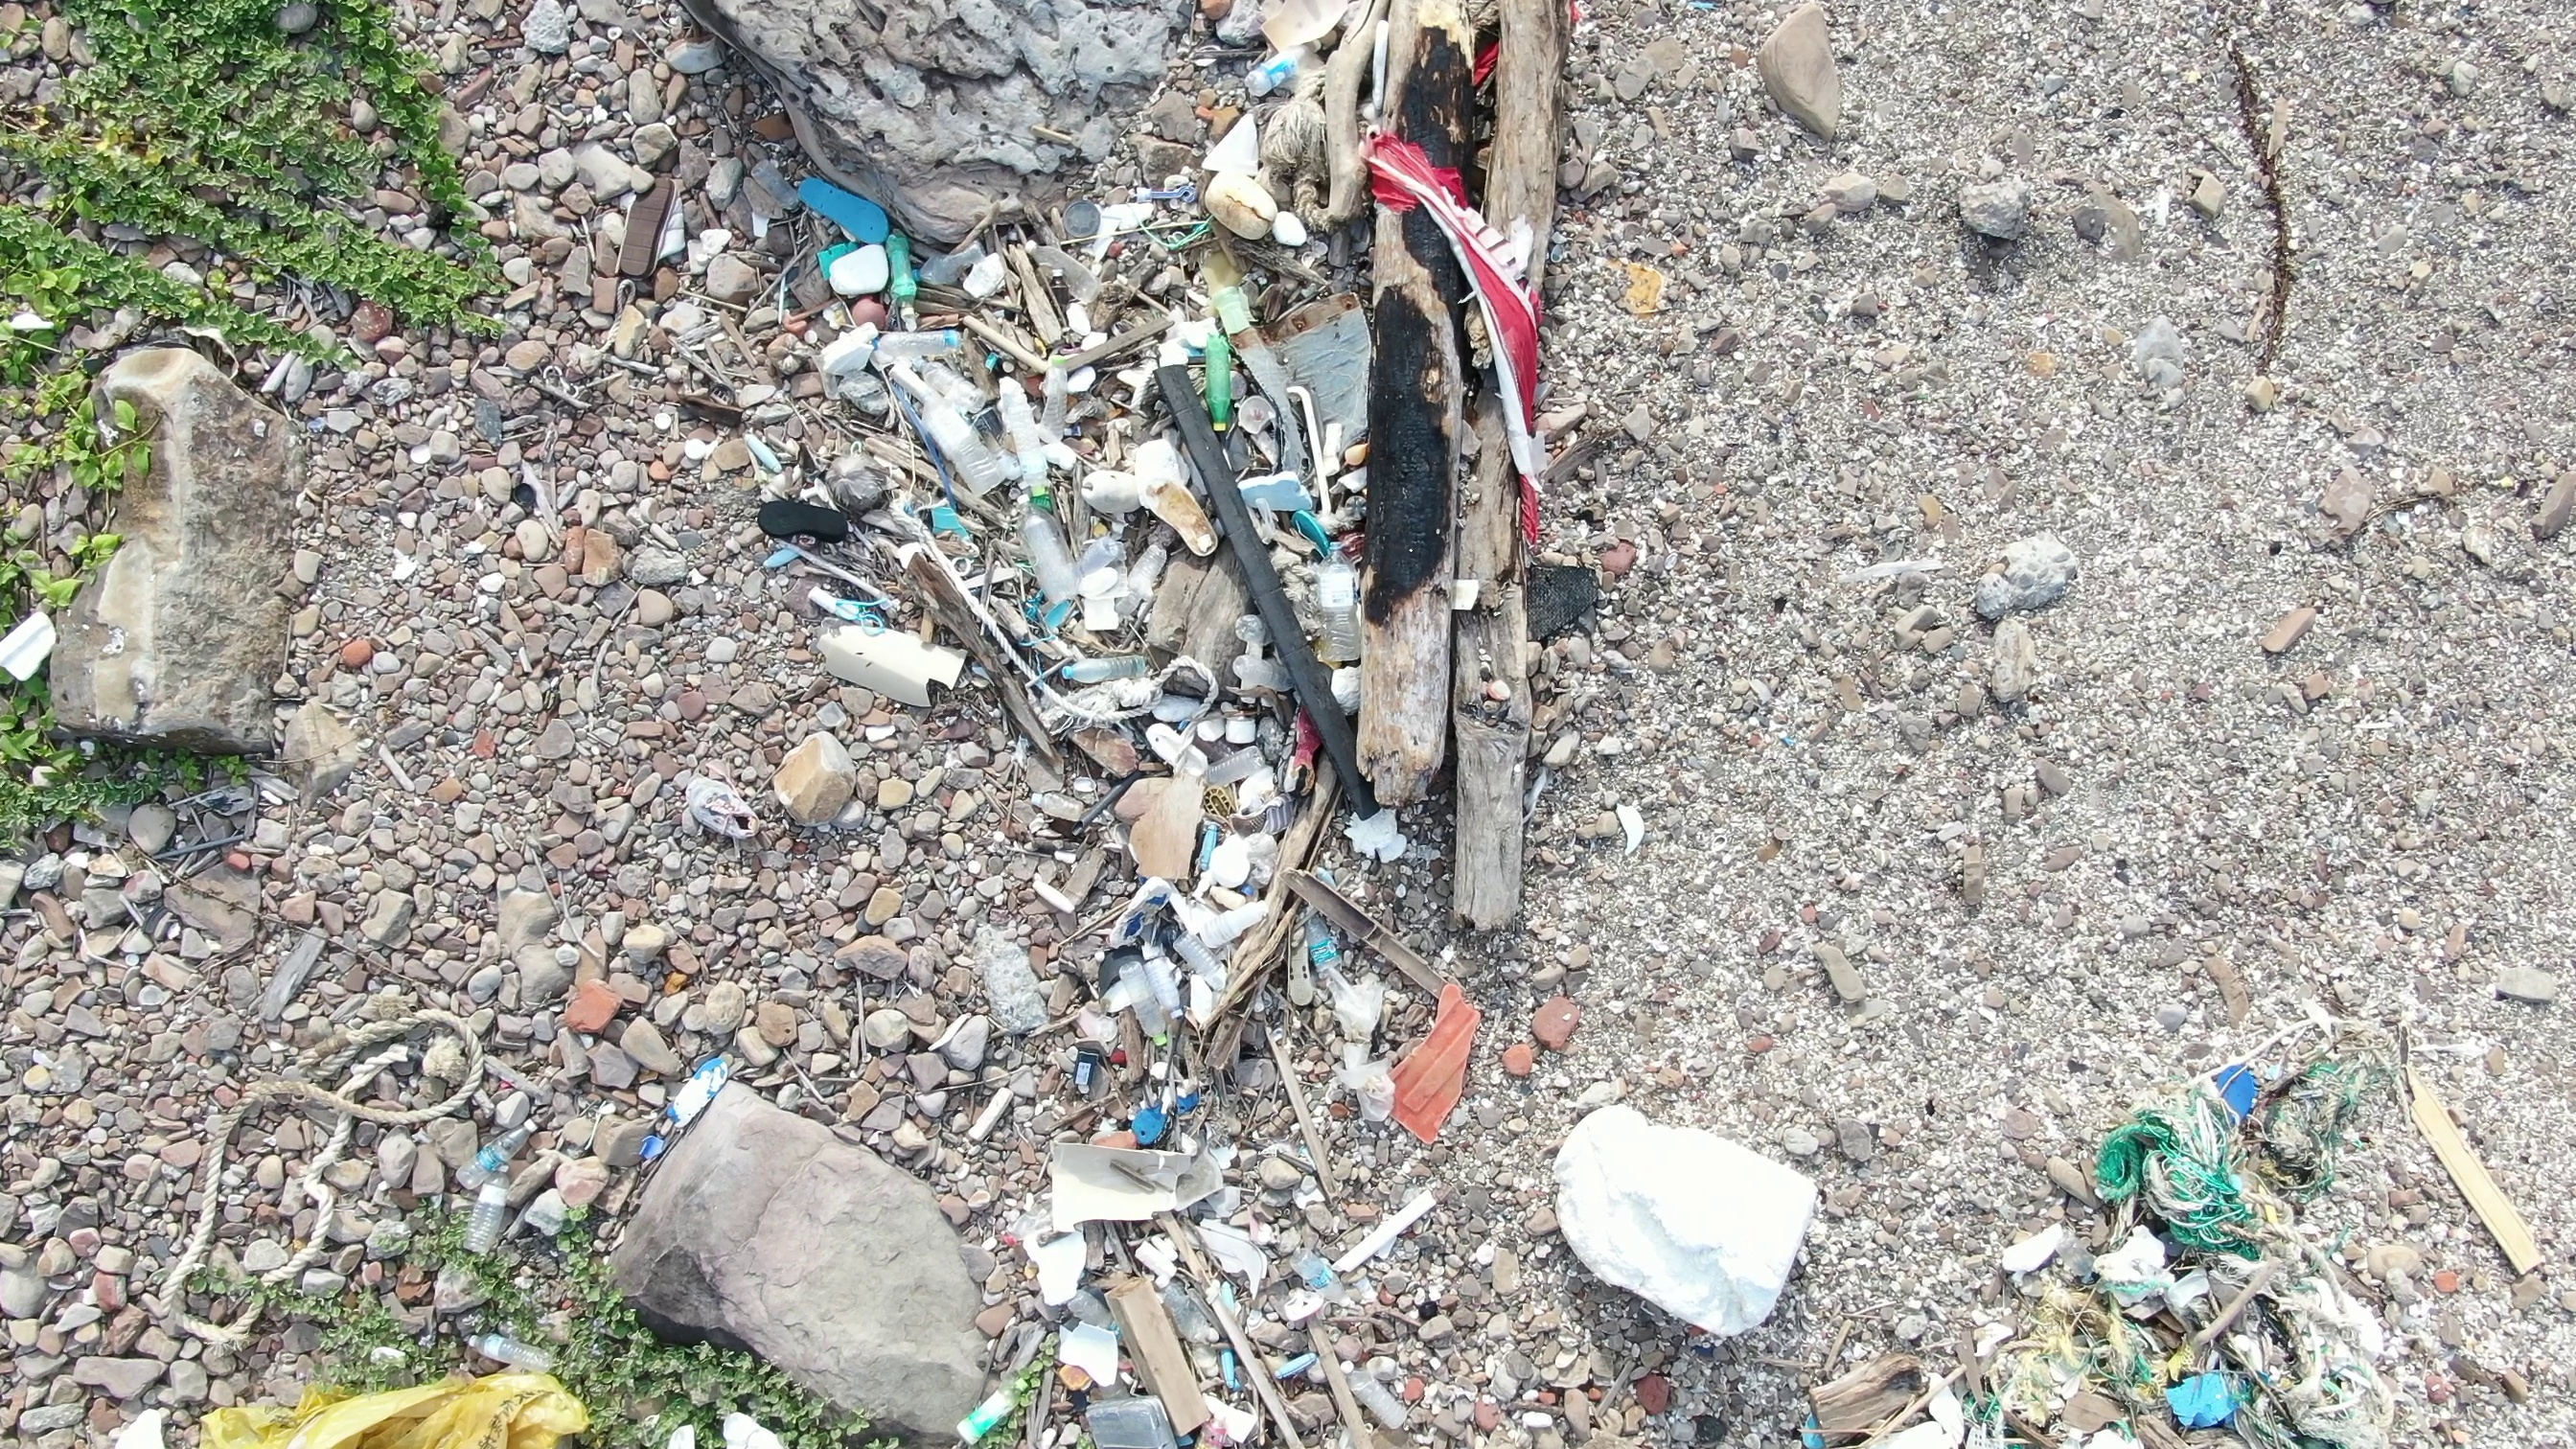bottle: (913, 380, 1016, 502), (1111, 950, 1184, 1053), (455, 1109, 547, 1189), (1316, 534, 1373, 660), (1019, 499, 1076, 612), (950, 1364, 1030, 1442), (462, 1154, 517, 1260), (465, 1325, 573, 1371), (1201, 331, 1244, 444), (1295, 909, 1352, 991), (1242, 37, 1318, 90), (1292, 1247, 1352, 1313), (1200, 740, 1274, 791), (1056, 653, 1148, 686), (886, 223, 918, 308)
garbage: (717, 2, 1629, 1203), (1817, 948, 2557, 1445), (163, 998, 481, 1343), (175, 1336, 625, 1449), (617, 157, 694, 295), (2, 593, 71, 718), (658, 1405, 805, 1449)
